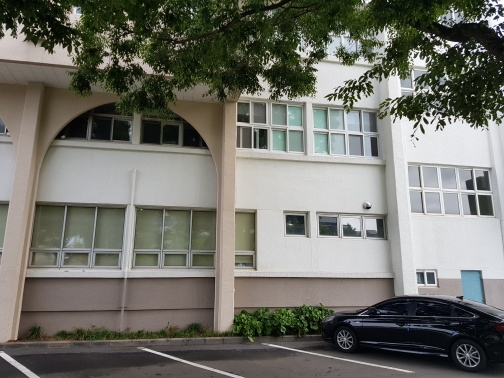Main Building of University: (7, 22, 504, 298), (31, 88, 392, 269)
